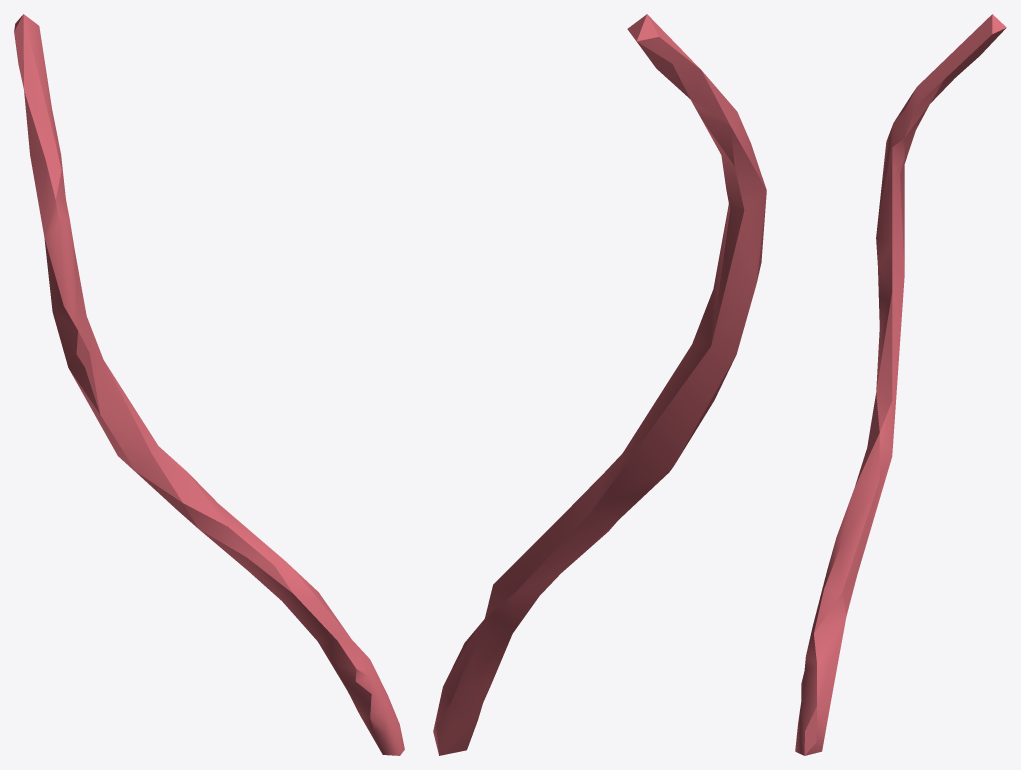
File: fma50519_fj5229.glb
The picture shows the model from 3 angles, left to right: view 1: azimuth 30°, elevation 25°; view 2: azimuth 150°, elevation 25°; view 3: azimuth 270°, elevation 25°; orthographic projection. The views are drawn at different scales.
Parts seen in each view (by area): view 1: FMA50519_FJ5229; view 2: FMA50519_FJ5229; view 3: FMA50519_FJ5229.
Part boxes in pixels (bbox=[...]): FMA50519_FJ5229: bbox=[14, 14, 404, 755]; FMA50519_FJ5229: bbox=[433, 14, 766, 755]; FMA50519_FJ5229: bbox=[795, 14, 1006, 755].
Size of the model in its own units: 0.00495 by 0.011 by 0.00338.
